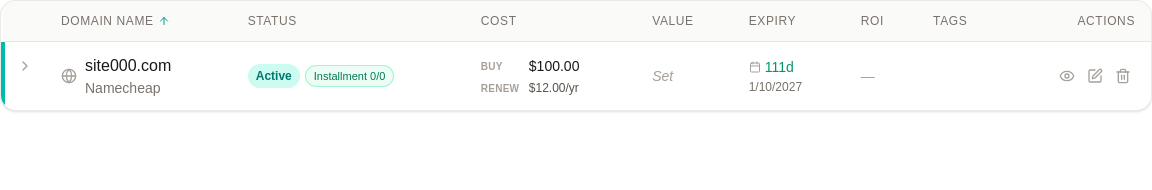
Test: DomainTable 展开行的金额 › 分期出售显示已收额，并带出合同「标价」
This screenshot has width=1152, height=190.
Click the button named "Expand history": point(25, 66) top-left (13, 54), bottom-right (37, 78)
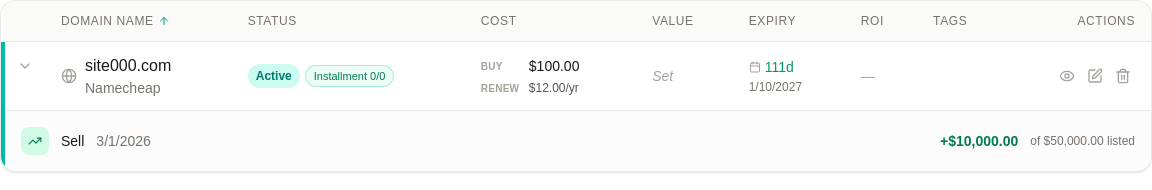
Expected: the text "+$10,000.00" is shown, top-left (940, 131), bottom-right (1018, 151)
Expected: the text "of $50,000.00 listed" is shown, top-left (1030, 133), bottom-right (1135, 149)
